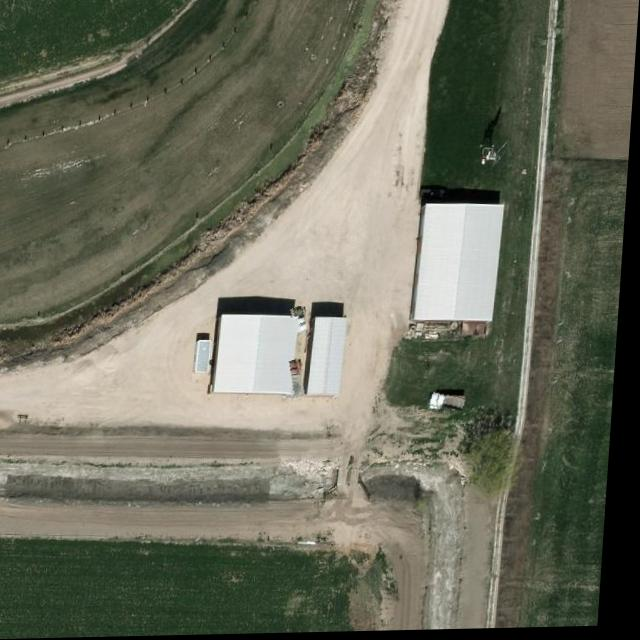vehicle: (289, 361, 311, 402), (434, 395, 474, 413), (294, 307, 314, 336)
